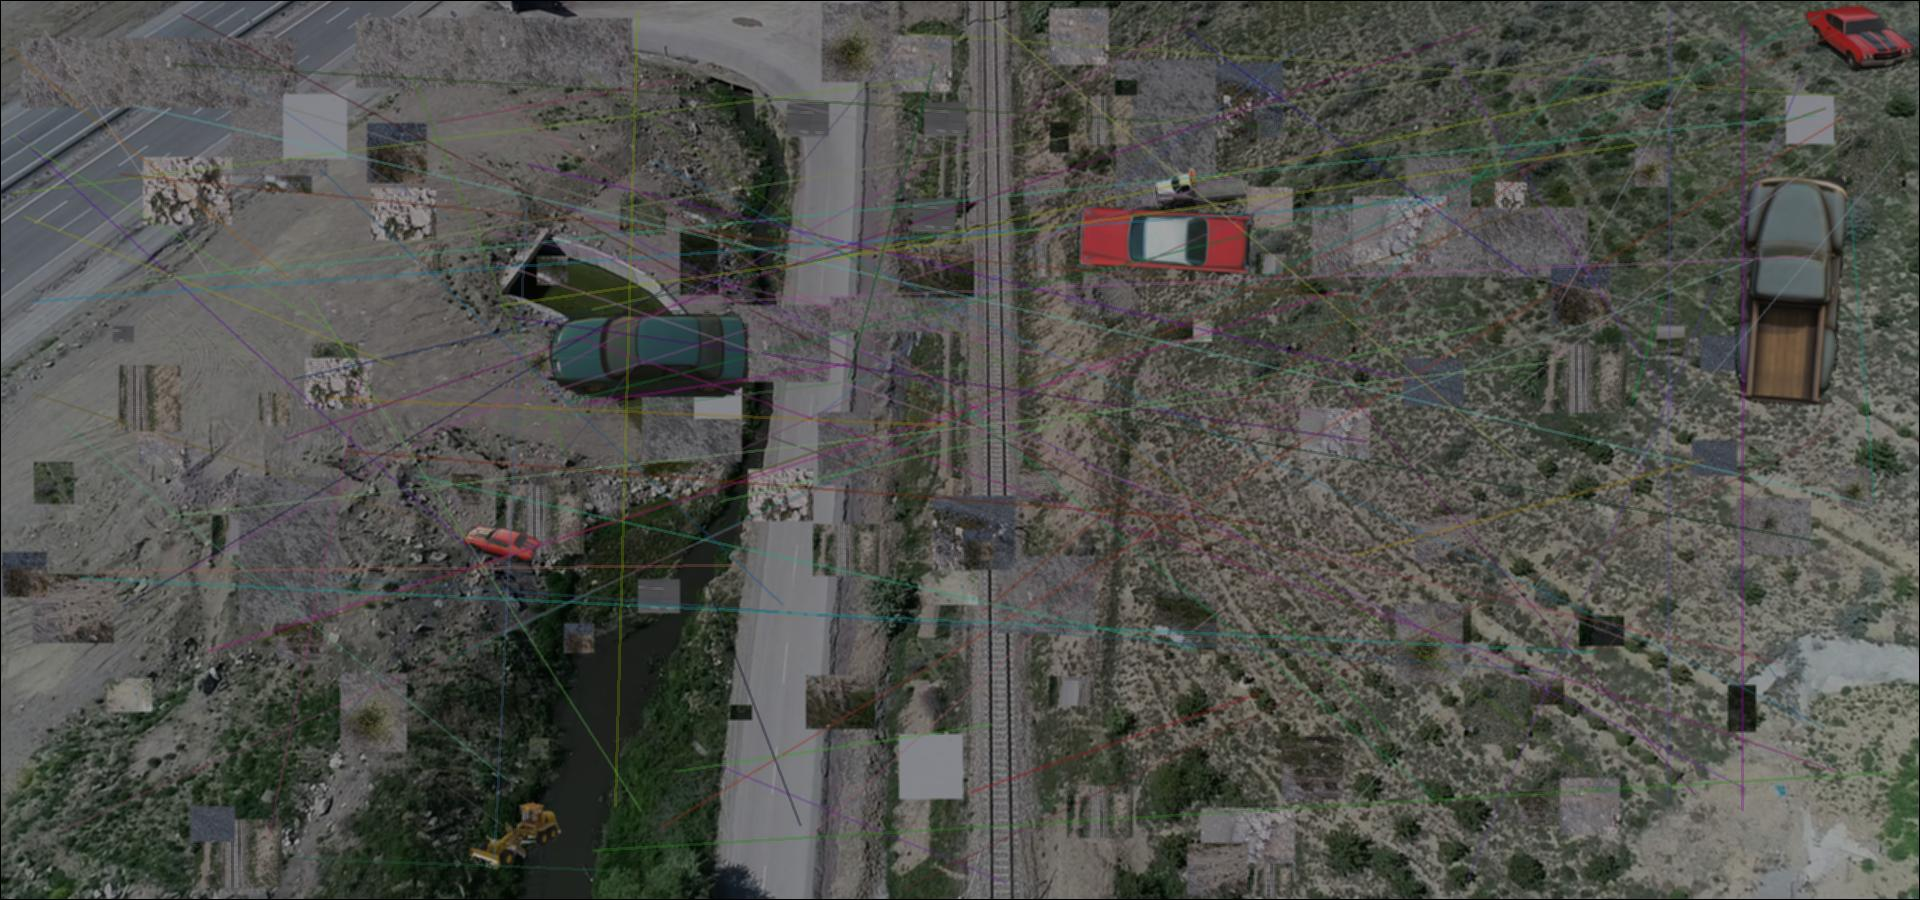arac: (1735, 178, 1848, 408), (549, 309, 759, 397), (1071, 201, 1255, 276), (1805, 4, 1913, 72), (468, 800, 566, 871), (1153, 167, 1247, 213), (462, 523, 542, 563)
